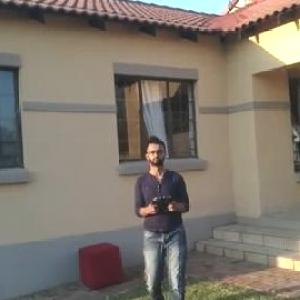follow: (128, 131, 195, 299)
